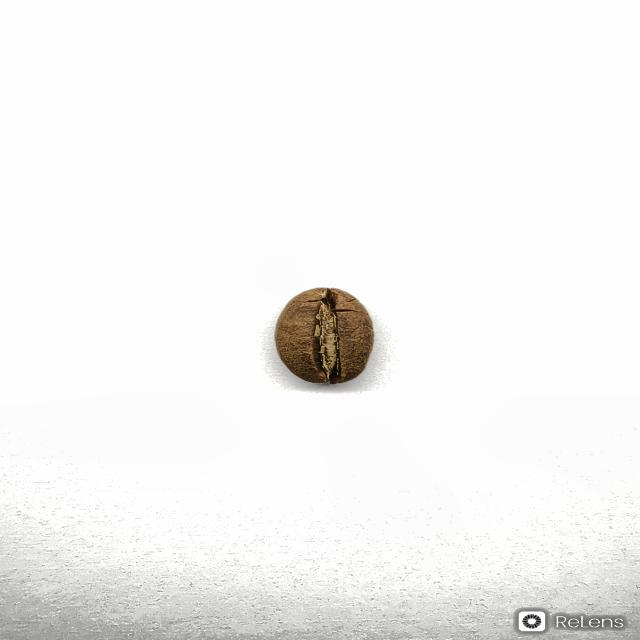Good bean: (273, 286, 375, 385)
